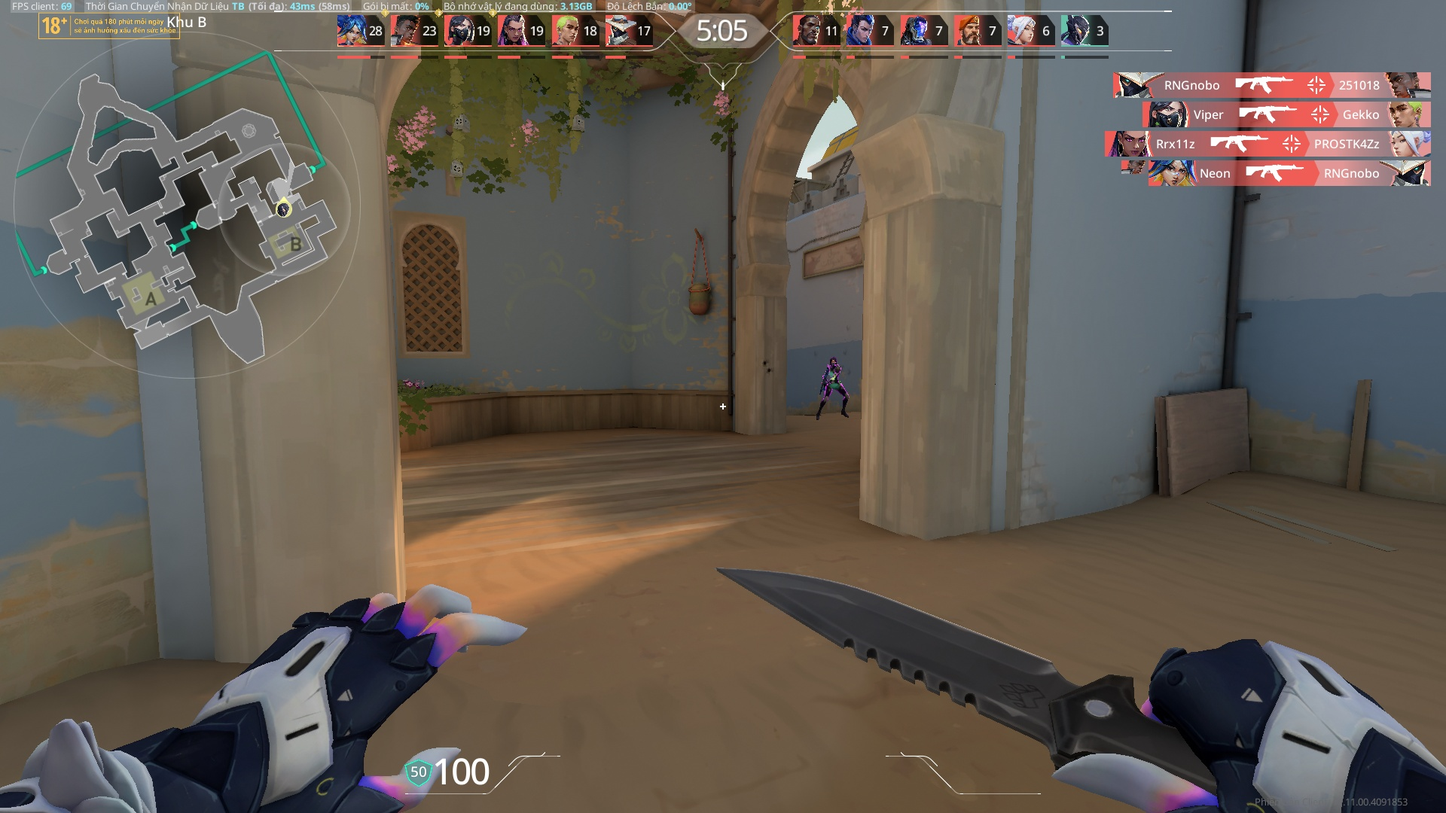body: (821, 364, 841, 385)
head: (827, 354, 837, 367)
